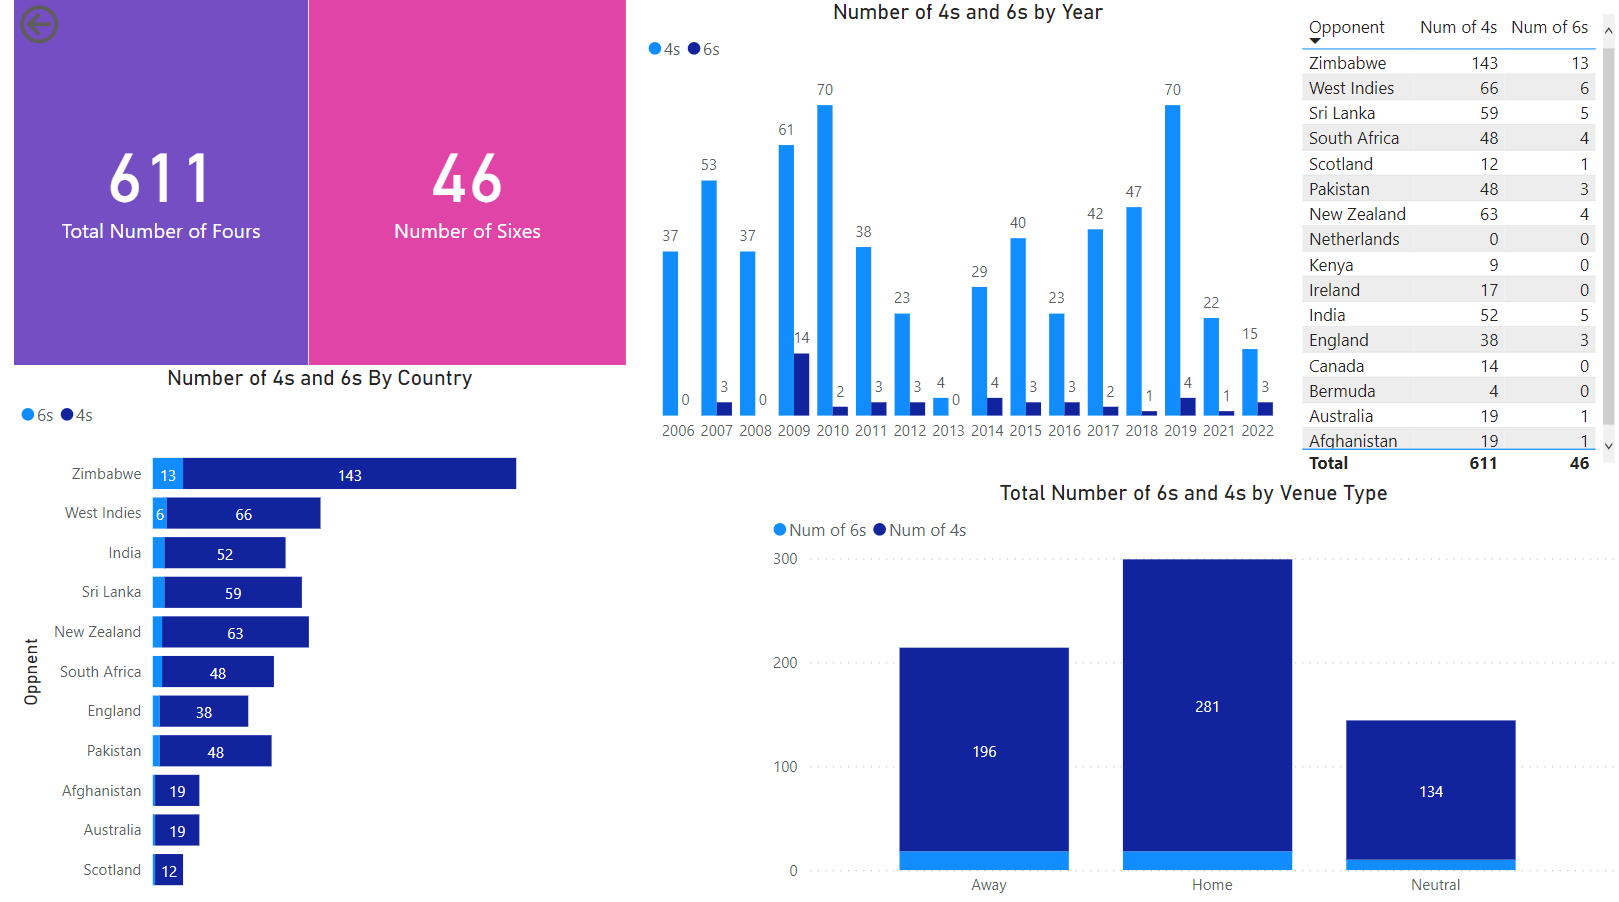

Layout of this report page (visuals, bound fields, positions):
{"tool":"powerbi","page":{"name":"Boundary Statistics","canvas":[1280,720],"ordinal":3},"visuals":[{"type":"card","fields":{"Values":["Sum(ODI.4s)"]},"box":[0,0,233.4,289.8],"z":0},{"type":"card","fields":{"Values":["Sum(ODI.6s)"]},"box":[233.4,0,250.9,289.8],"z":1000},{"type":"barChart","title":"Number of  4s and 6s By Country","fields":{"Category":["ODI.Oppnent"],"Y":["Sum(ODI.6s)","Sum(ODI.4s)"]},"box":[0,289.8,484.4,429.9],"z":2000},{"type":"clusteredColumnChart","title":"Number of 4s and 6s by Year","fields":{"Y":["Sum(ODI.4s)","Sum(ODI.6s)"],"Category":["ODI.Date.Variation.Date Hierarchy.Year"]},"box":[496.6,0,517.8,360],"z":3000},{"type":"tableEx","fields":{"Values":["ODI.Oppnent","Sum(ODI.4s)","Sum(ODI.6s)"]},"box":[1014.4,7.1,258,374.2],"z":4000},{"type":"actionButton","box":[0,0,100,40],"z":5000},{"type":"columnChart","title":"Total Number of  6s and 4s by Venue Type","fields":{"Y":["Sum(ODI.6s)","Sum(ODI.4s)"],"Category":["ODI.Home vs Away"]},"box":[595.9,381.3,677.4,338.7],"z":6000}]}

Visuals, with their boxes in screenshot pixels (x1, y1, x2, y2), scaled from the page's 1280x720 canvas onto the 1619x902 screenshot:
card - Sum(ODI.4s): {"left": 0, "top": 0, "right": 295, "bottom": 363}
card - Sum(ODI.6s): {"left": 295, "top": 0, "right": 613, "bottom": 363}
"Number of  4s and 6s By Country" barChart: {"left": 0, "top": 363, "right": 613, "bottom": 901}
"Number of 4s and 6s by Year" clusteredColumnChart: {"left": 628, "top": 0, "right": 1283, "bottom": 451}
tableEx - ODI.Oppnent x Sum(ODI.4s): {"left": 1283, "top": 9, "right": 1609, "bottom": 478}
actionButton: {"left": 0, "top": 0, "right": 126, "bottom": 50}
"Total Number of  6s and 4s by Venue Type" columnChart: {"left": 754, "top": 478, "right": 1611, "bottom": 901}
